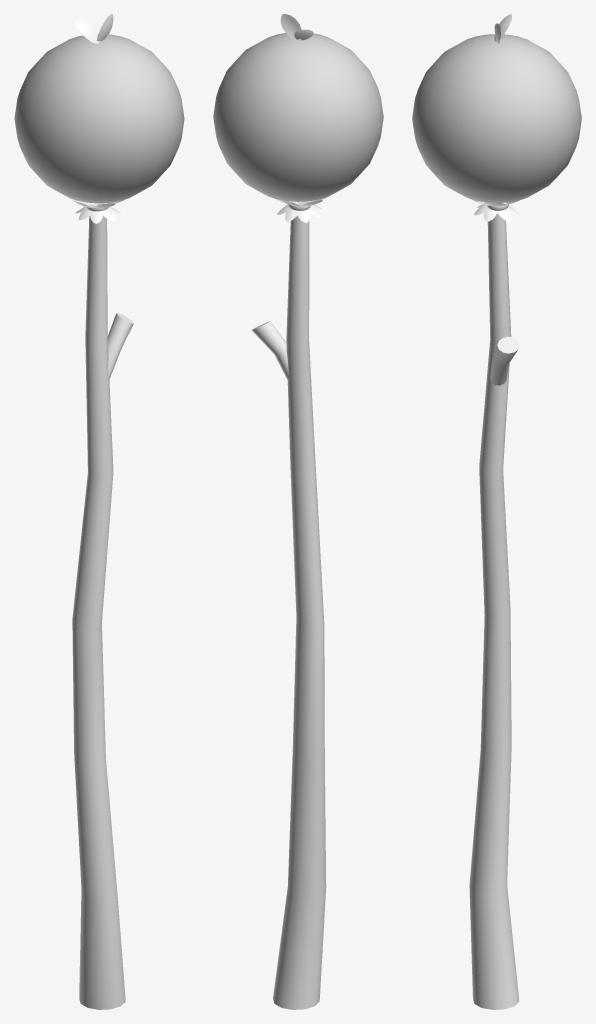
File: Lamp_02_1.fbx
3 views of the same model, side by side, from view 1: azimuth 30°, elevation 25°; view 2: azimuth 150°, elevation 25°; view 3: azimuth 270°, elevation 25° (orthographic).
Visible parts, largest first — view 1: Object003, Sphere002; view 2: Object003, Sphere002; view 3: Object003, Sphere002.
Part boxes in pixels (x1,y1,x2,y2): Object003: [69, 14, 133, 1009]; Sphere002: [14, 34, 184, 203]; Object003: [251, 14, 327, 1009]; Sphere002: [213, 33, 383, 201]; Object003: [469, 14, 519, 1009]; Sphere002: [412, 34, 581, 202].
Size of the model in its own units: 78.39 by 500 by 78.39.
